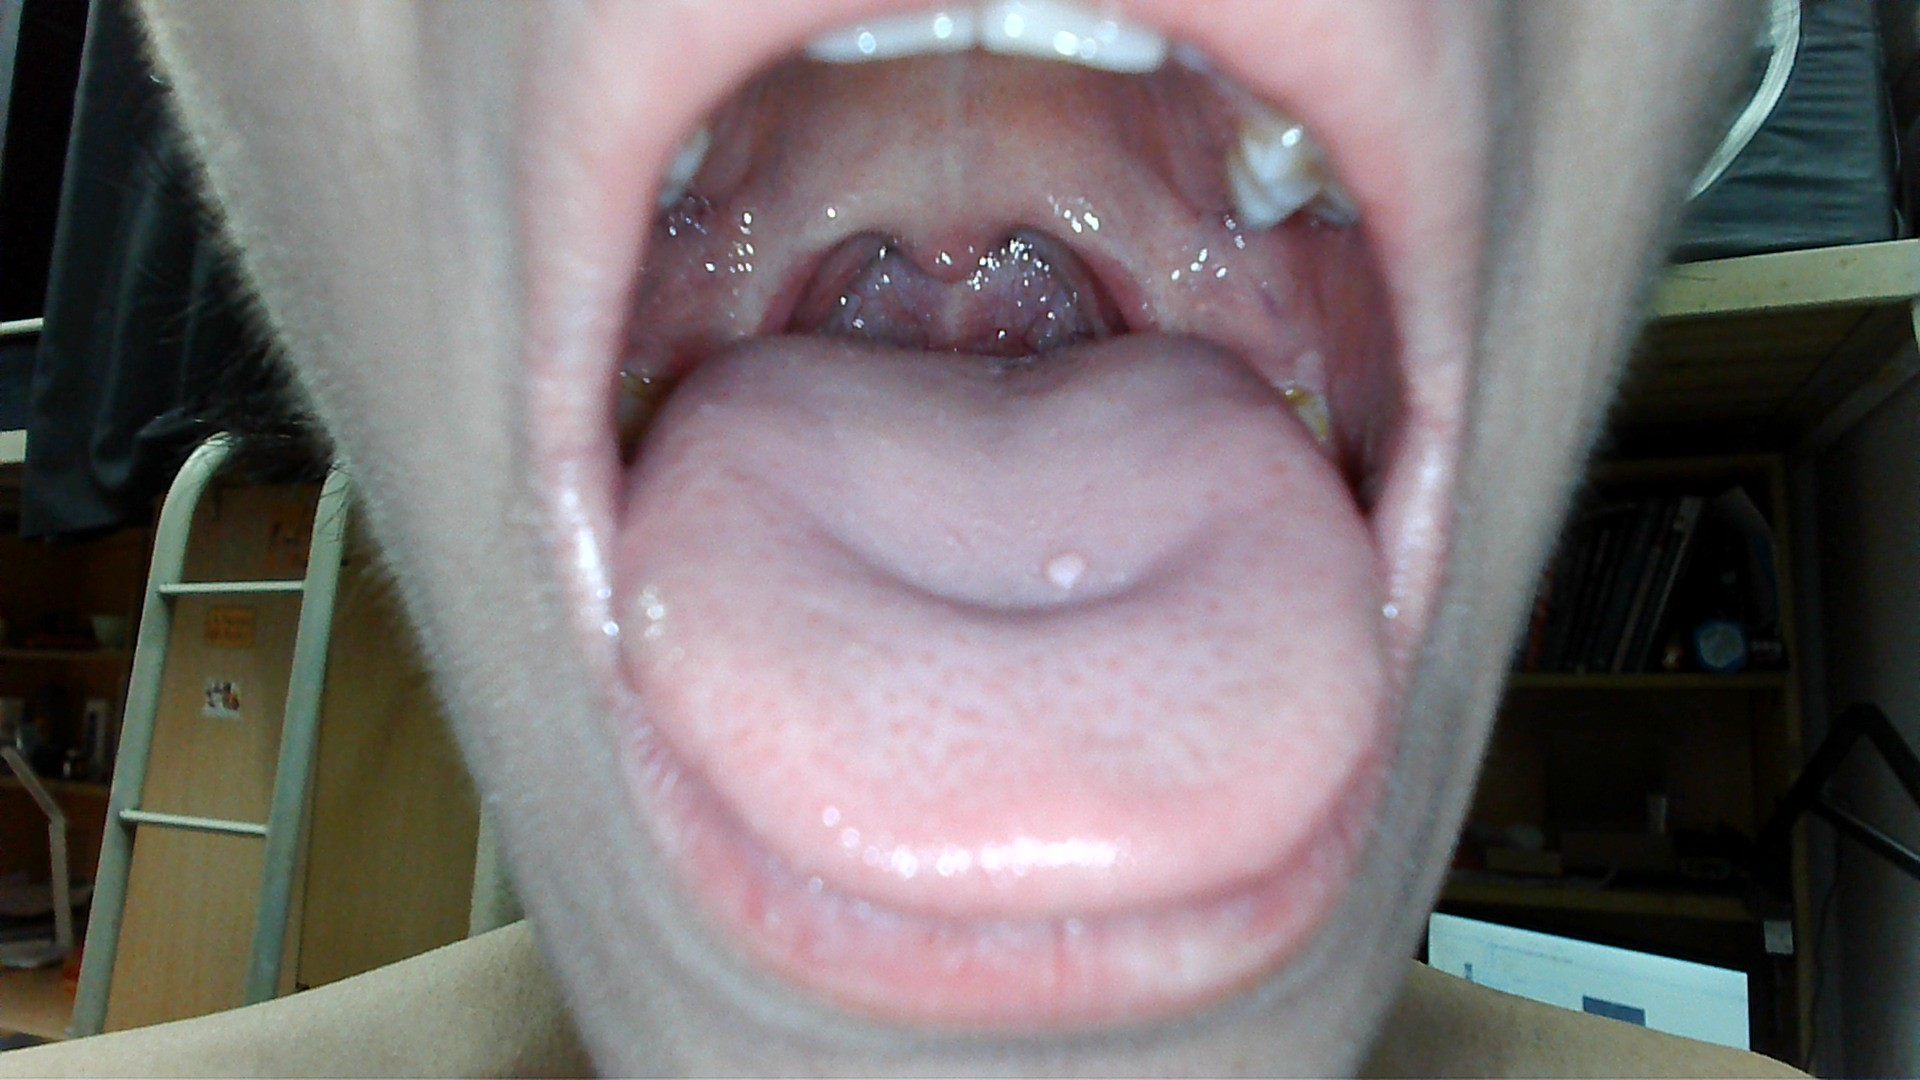throat: (1073, 216, 1150, 332), (750, 224, 818, 332)
